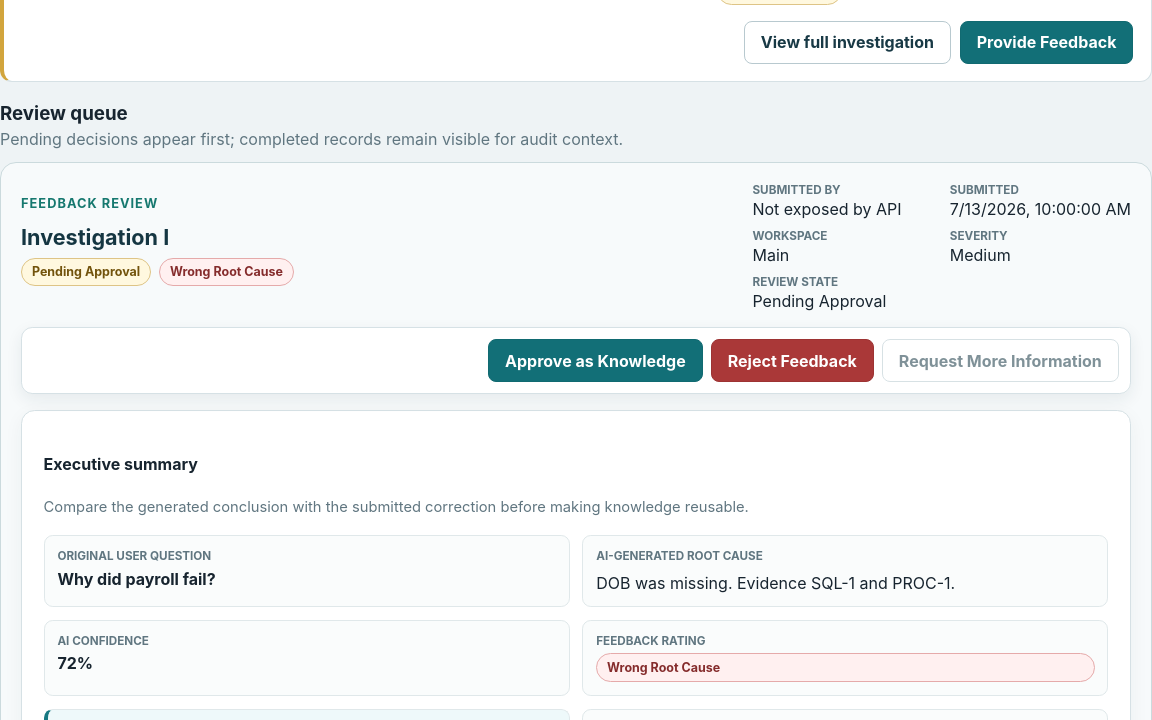
LearningPage › shows review API failures
(page scrolled)
Click the button "Approve as Knowledge".
click(595, 361)  # box left=488, top=340, right=703, bottom=382
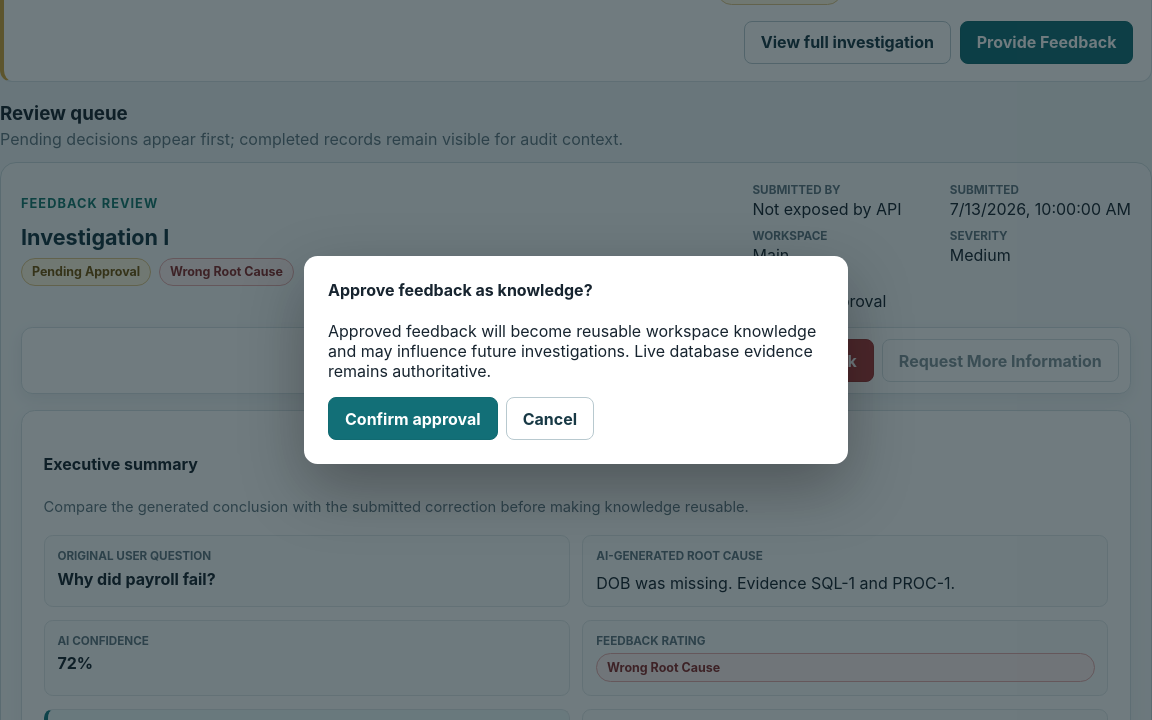
Click the button "Confirm approval".
click(413, 419)  # box left=328, top=397, right=498, bottom=440
(page scrolled)
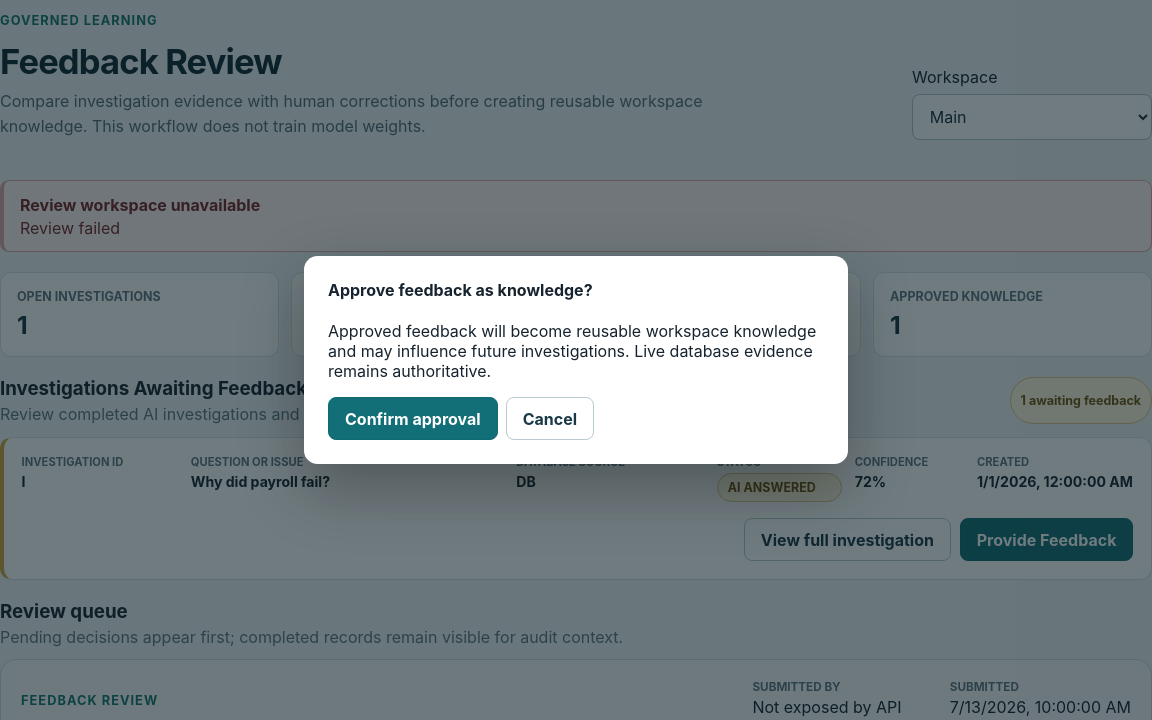
Now the message shows "Review failed", box left=20, top=218, right=120, bottom=238
